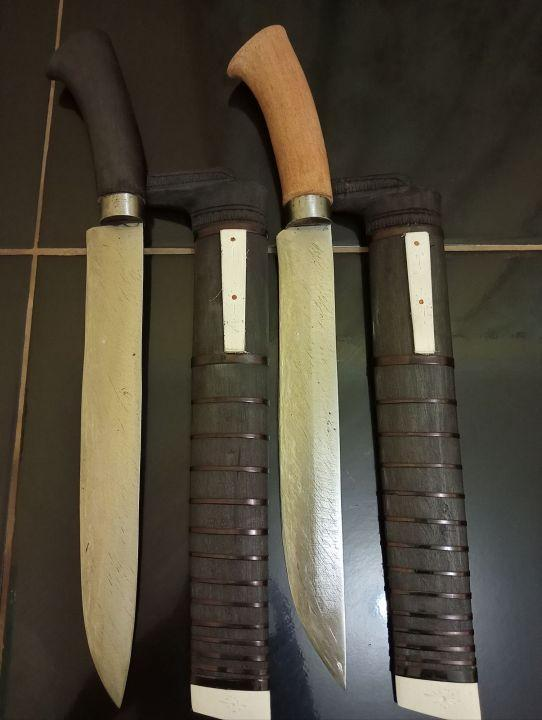facao: (227, 26, 344, 685), (49, 32, 143, 707)
